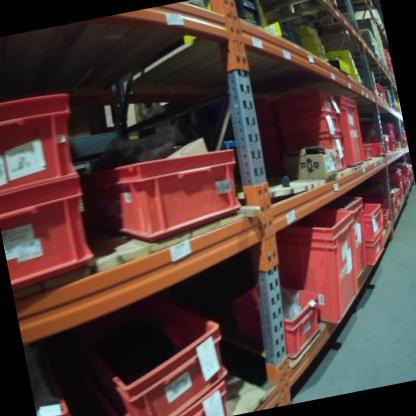pallet: (237, 0, 341, 36)
small_load_carrier: (72, 294, 236, 416), (87, 138, 246, 249), (0, 173, 104, 296), (269, 210, 370, 336), (222, 261, 331, 371), (0, 86, 90, 199), (105, 370, 244, 416), (24, 339, 81, 416), (254, 79, 341, 126), (338, 197, 382, 278), (331, 92, 367, 166), (284, 131, 345, 174), (276, 108, 339, 146), (357, 195, 387, 230), (361, 229, 389, 263), (365, 134, 384, 158)
